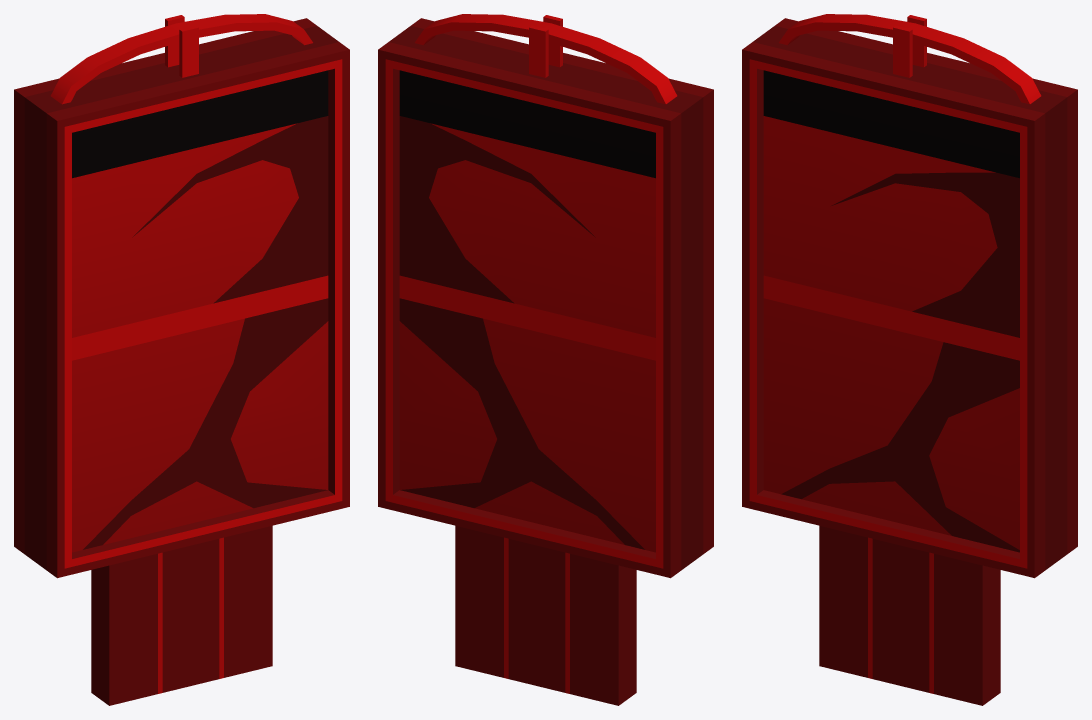
File: InformationSign.glb
3 renders of one model, left to right at view 1: azimuth 30°, elevation 25°; view 2: azimuth 150°, elevation 25°; view 3: azimuth 330°, elevation 25°, orthographic.
Visible parts, largest first — view 1: InformationSign; view 2: InformationSign; view 3: InformationSign.
Boxes of the visible parts, x1,y1,x2,y2 form: InformationSign: [14, 14, 349, 705]; InformationSign: [378, 14, 713, 705]; InformationSign: [742, 14, 1077, 705].
Bounding box in the file's own units: 6.17 × 13.22 × 1.57.
